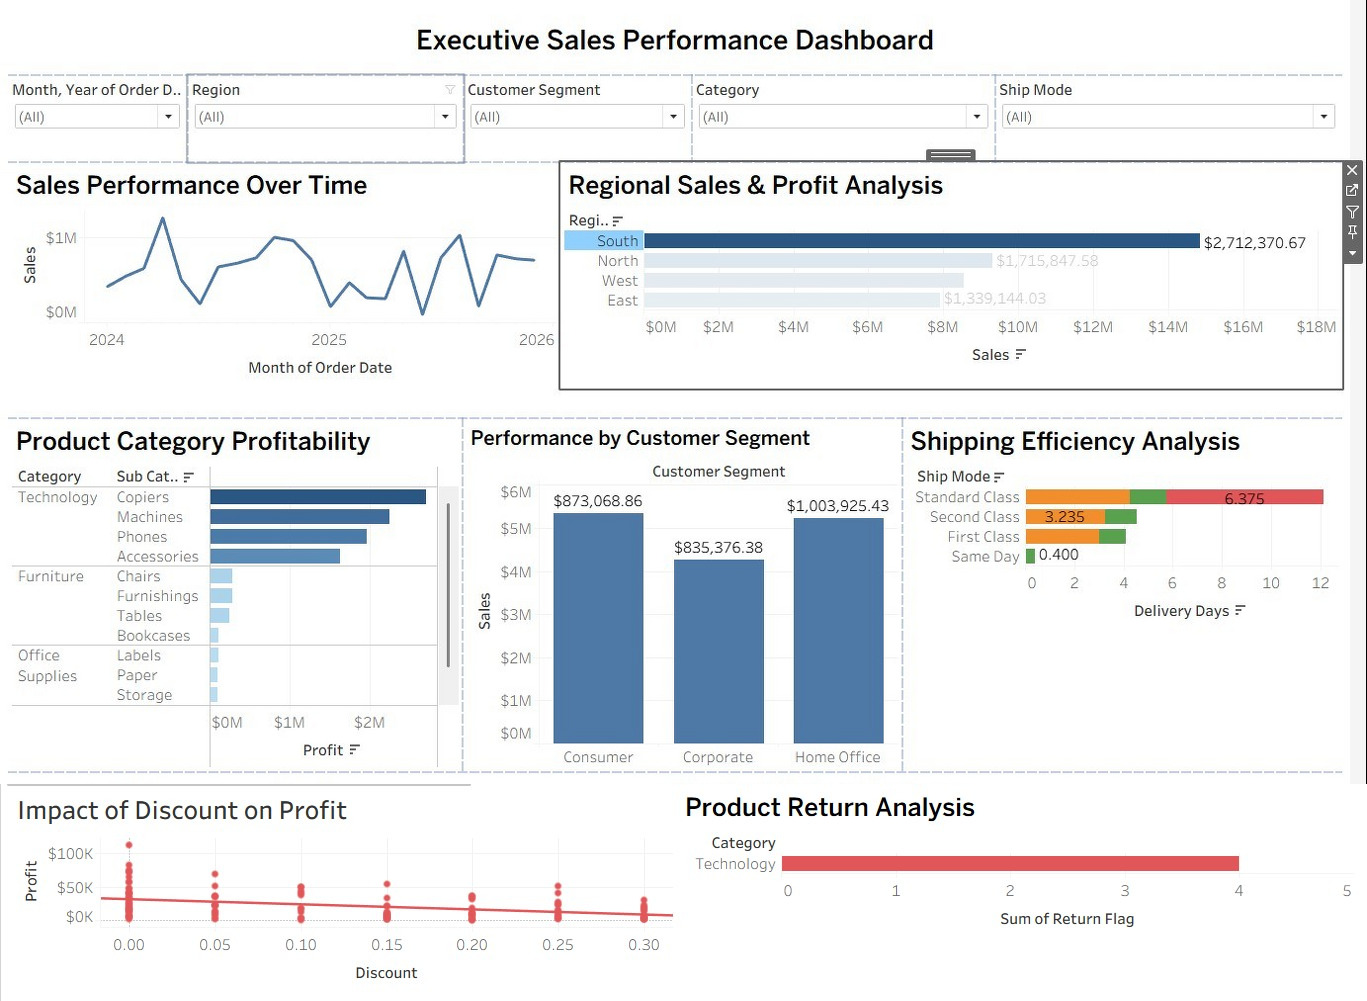

The page's visual inventory and layout, read from the dashboard file:
{"tool":"tableau","page":{"name":"Dashboard 2","canvas":[1366,1000],"ordinal":0},"visuals":[{"type":"text","box":[8,8,1350,68.7]},{"type":"filter","title":"Sales Trend View","param":"[federated.09wcsd81232wdh13vvba10xhik3g].[my:order_date:ok]","box":[8,76.7,181.5,88.5]},{"type":"filter","title":"Category Profitability View","param":"[federated.09wcsd81232wdh13vvba10xhik3g].[none:region:nk]","box":[189.5,76.7,279.5,88.5]},{"type":"filter","title":"Category Profitability View","param":"[federated.09wcsd81232wdh13vvba10xhik3g].[none:customer_segment:nk]","box":[469,76.7,231,88.5]},{"type":"filter","title":"Category Profitability View","param":"[federated.09wcsd81232wdh13vvba10xhik3g].[none:category:nk]","box":[700,76.7,307,88.5]},{"type":"filter","title":"Category Profitability View","param":"[federated.09wcsd81232wdh13vvba10xhik3g].[none:ship_mode:nk]","box":[1007,76.7,351,88.5]},{"type":"worksheet","title":"Sales Trend View","mark":"Automatic","rows":["sales"],"cols":["order_date"],"box":[8,165.1,559,258.8]},{"type":"worksheet","title":"Regional Performance View","mark":"Automatic","rows":["region"],"cols":["sales"],"box":[567,165.1,791,258.8]},{"type":"worksheet","title":"Category Profitability View","mark":"Automatic","rows":["category","sub_category"],"cols":["profit"],"box":[8,423.9,459.9,358.1]},{"type":"worksheet","title":"Customer Segment View","mark":"Automatic","rows":["sales"],"cols":["customer_segment"],"box":[467.9,423.9,445.1,358.1]},{"type":"worksheet","title":"Shipping Performance View","mark":"Bar","rows":["ship_mode"],"cols":["delivery_days"],"box":[913,423.9,445,358.1]},{"type":"worksheet","title":"Discount vs Profit View","mark":"Circle","rows":["profit"],"cols":["discount"],"box":[8,782,659.5,210]},{"type":"worksheet","title":"Return Analysis View","mark":"Bar","rows":["category"],"cols":["return_flag"],"box":[667.5,782,690.5,210]}]}

Visuals, with their boxes in screenshot pixels (x1, y1, x2, y2), scaled from the page's 1366x1000 canvas onto the 1367x1001 screenshot:
text: 8 8 1359 77
"Sales Trend View" filter: 8 77 190 165
"Category Profitability View" filter: 190 77 469 165
"Category Profitability View" filter: 469 77 701 165
"Category Profitability View" filter: 701 77 1008 165
"Category Profitability View" filter: 1008 77 1359 165
"Sales Trend View" worksheet: 8 165 567 424
"Regional Performance View" worksheet: 567 165 1359 424
"Category Profitability View" worksheet: 8 424 468 783
"Customer Segment View" worksheet: 468 424 914 783
"Shipping Performance View" worksheet (Bar marks): 914 424 1359 783
"Discount vs Profit View" worksheet (Circle marks): 8 783 668 993
"Return Analysis View" worksheet (Bar marks): 668 783 1359 993
